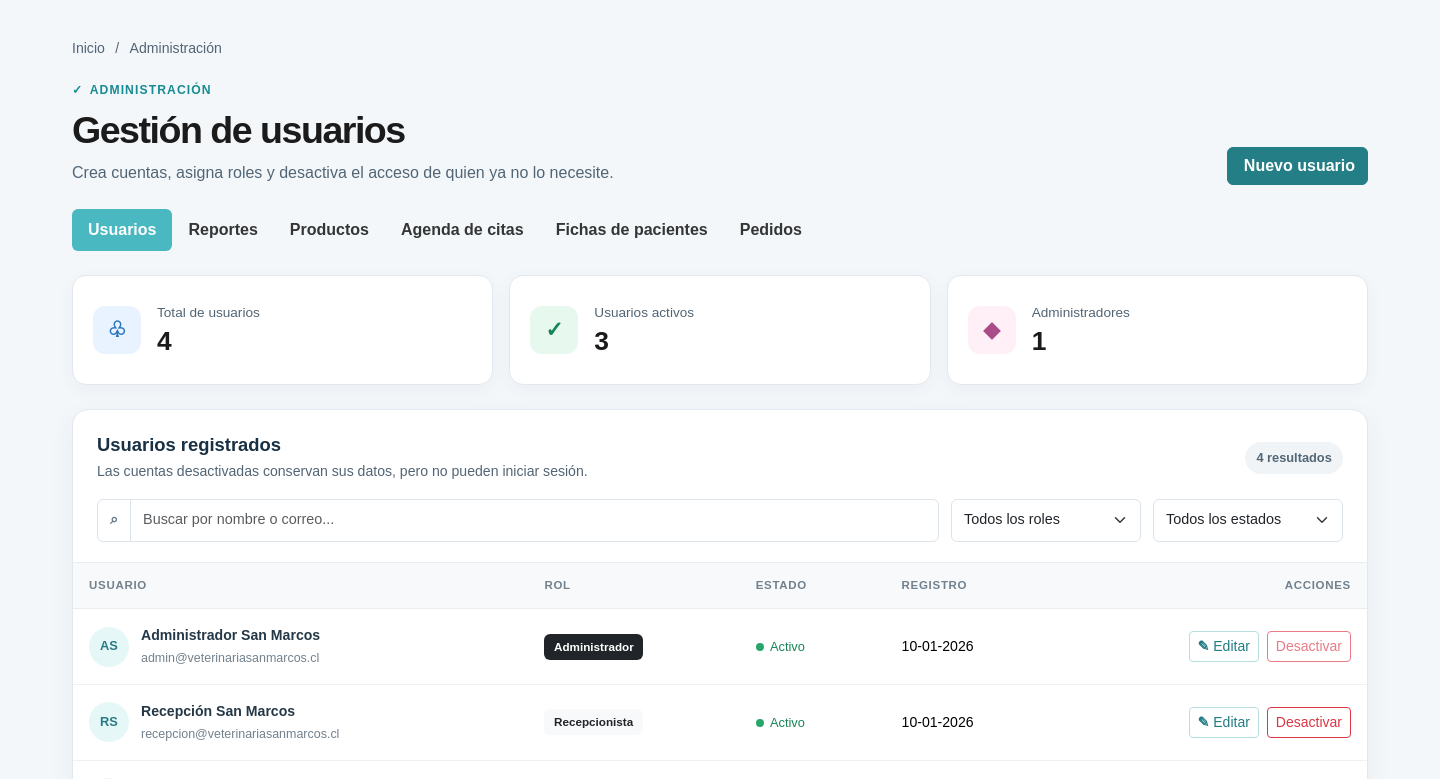
Scenario: Usuarios (administración) › crea una cuenta nueva con el rol elegido
Click the button "Nuevo usuario" at {"x": 1297, "y": 166}, box [1227,147,1368,185]
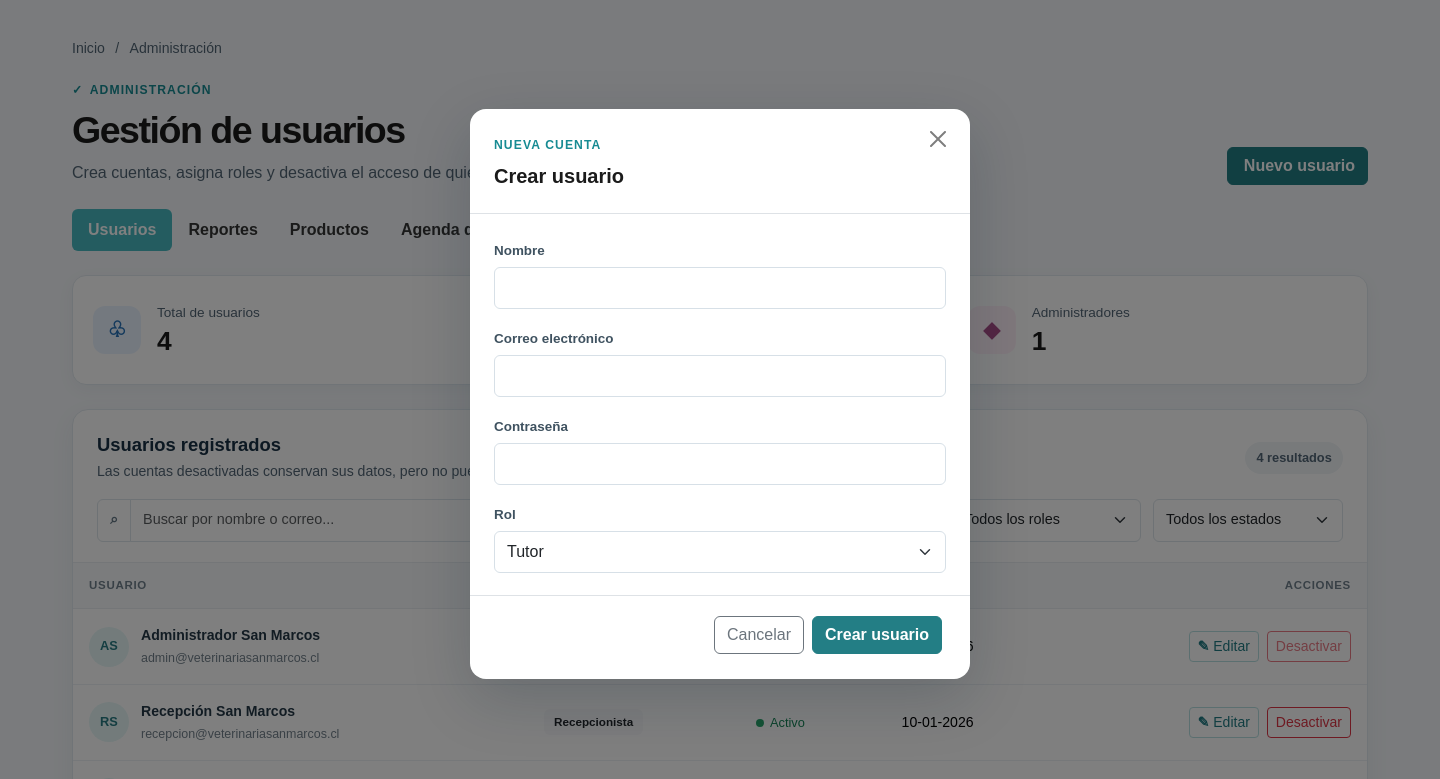
Type "Pedro Vet" into the field labelled "Nombre" at {"x": 720, "y": 288}, box [494,267,946,309]
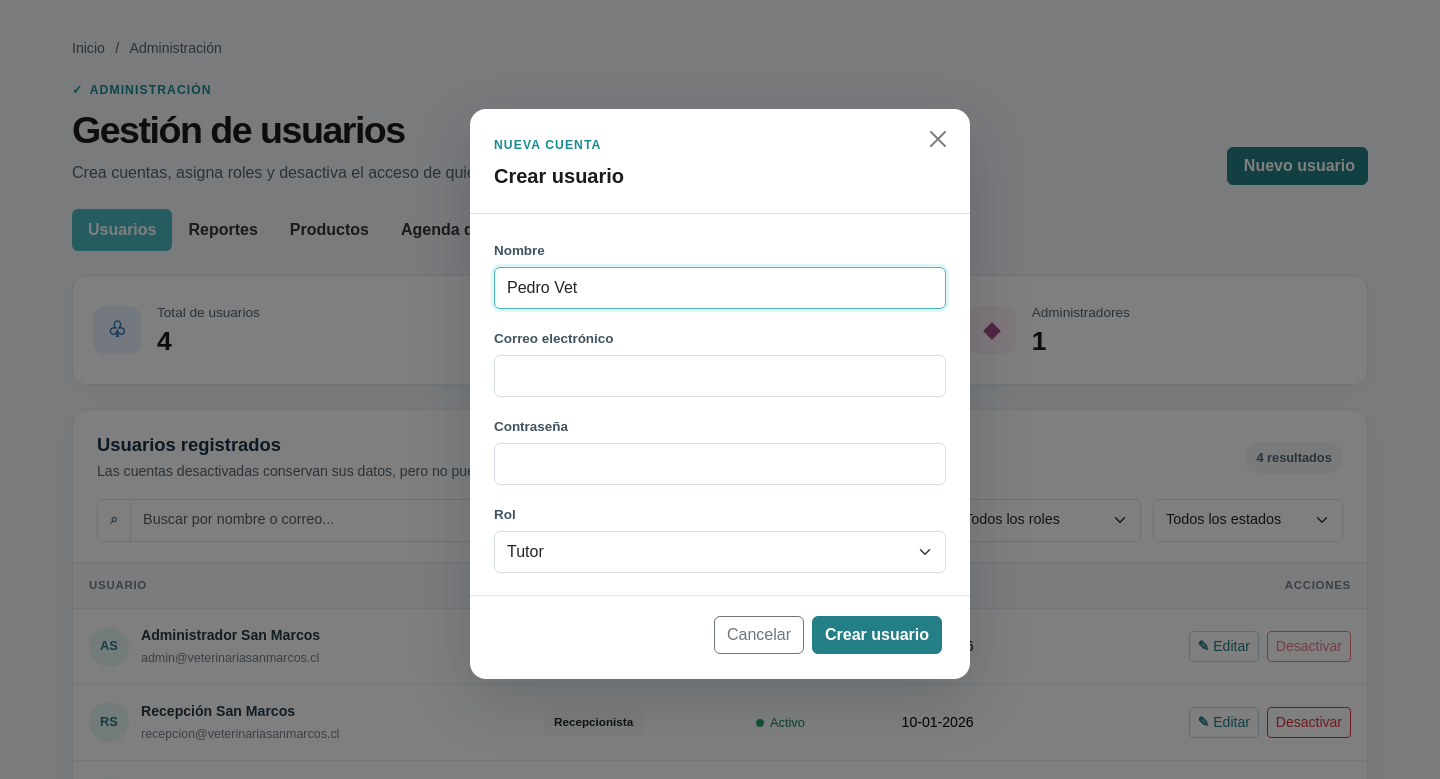
Type "pedro@veterinariasanmarcos.cl" into the field labelled "Correo electrónico" at {"x": 720, "y": 376}, box [494,355,946,397]
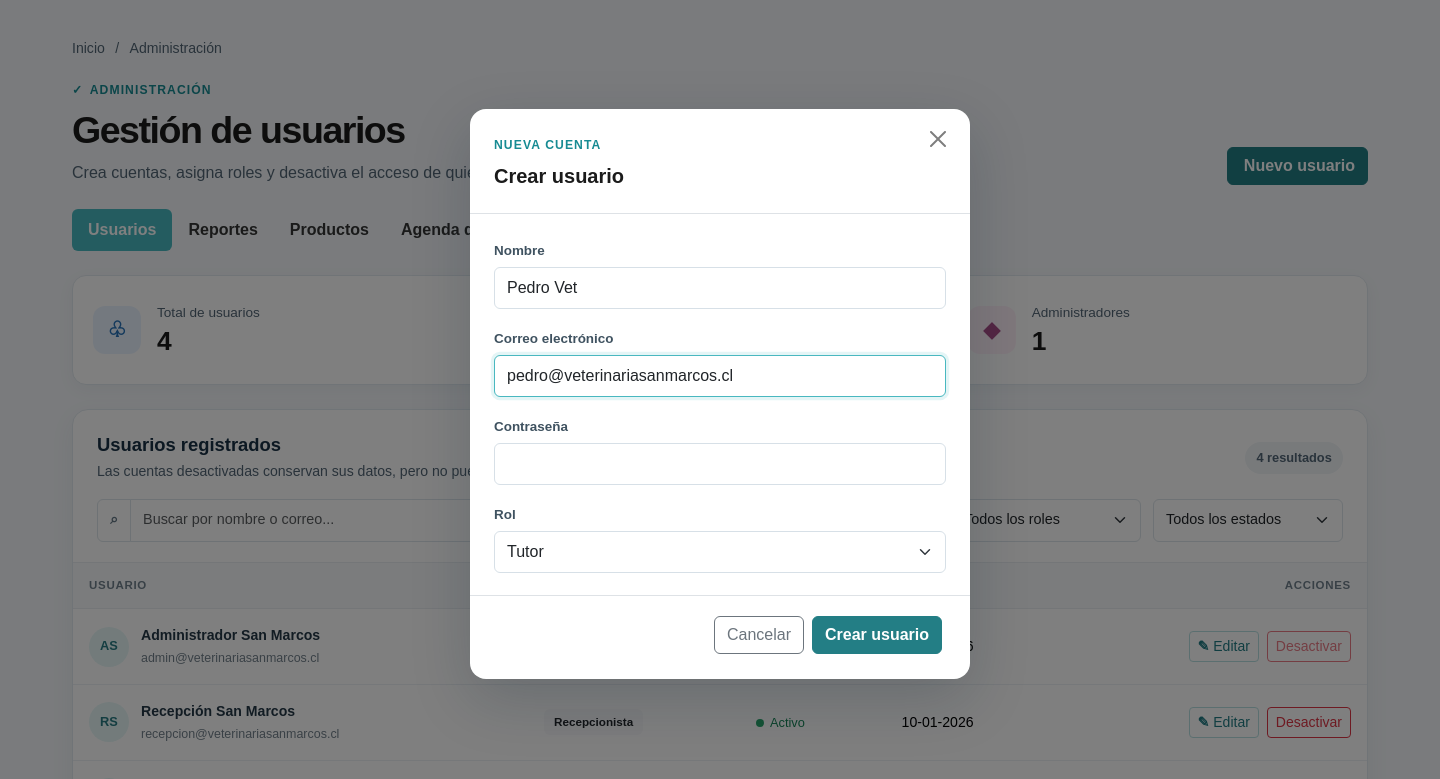
Type "secreta1" into the password field labelled "Contraseña" at {"x": 720, "y": 464}, box [494,443,946,485]
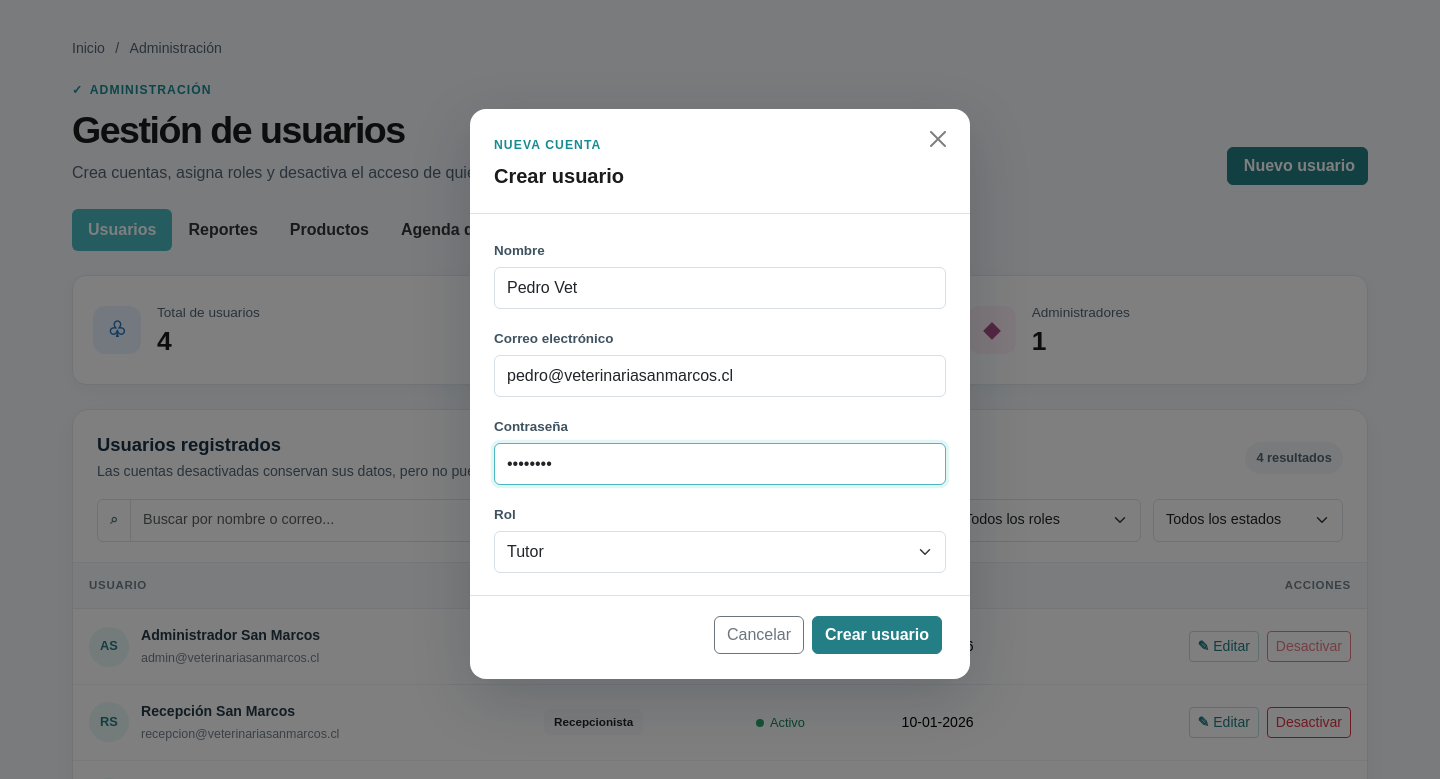
Select "Recepcionista" in the dropdown labelled "Rol" at {"x": 720, "y": 552}, box [494,531,946,573]
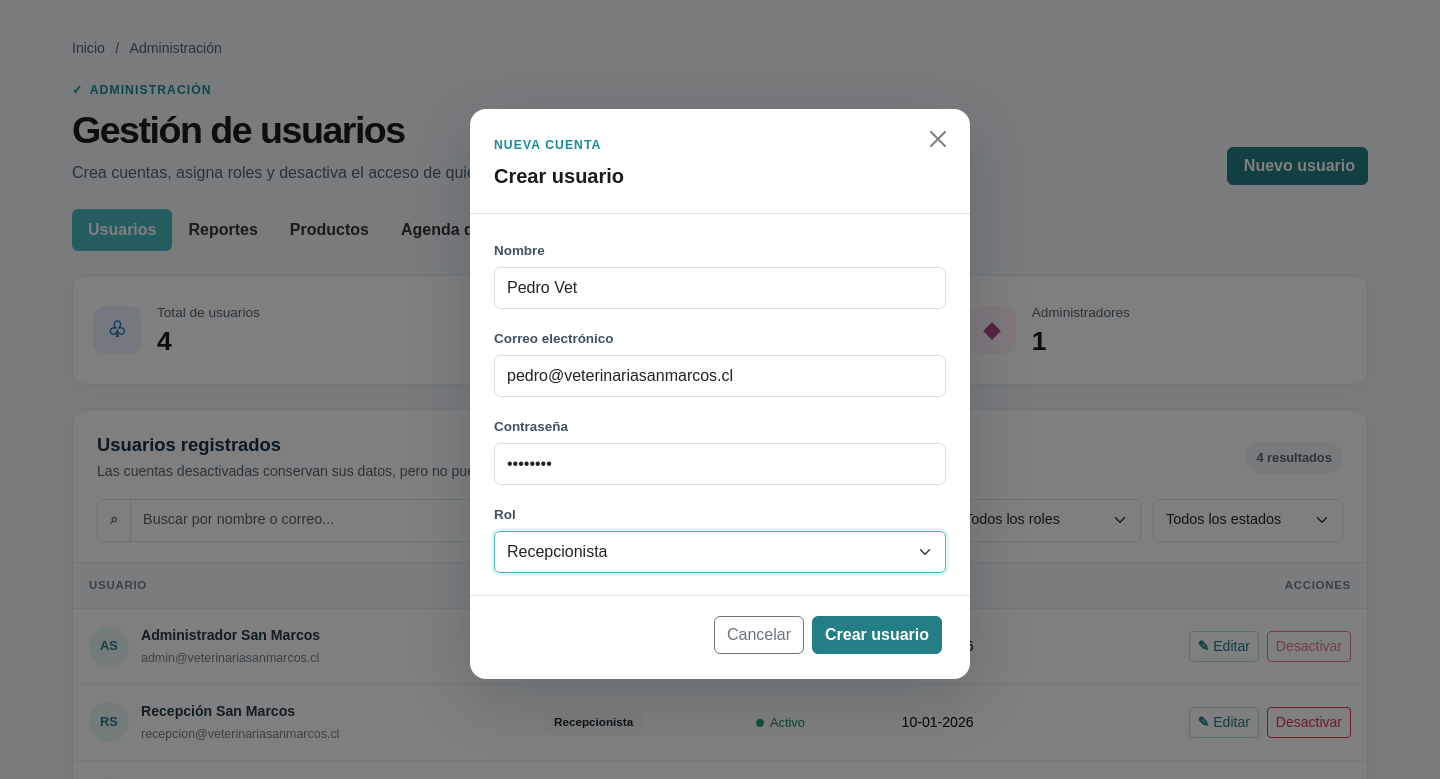
Click the button "Crear usuario" at {"x": 877, "y": 635}, box [812,616,942,654]
(page scrolled)
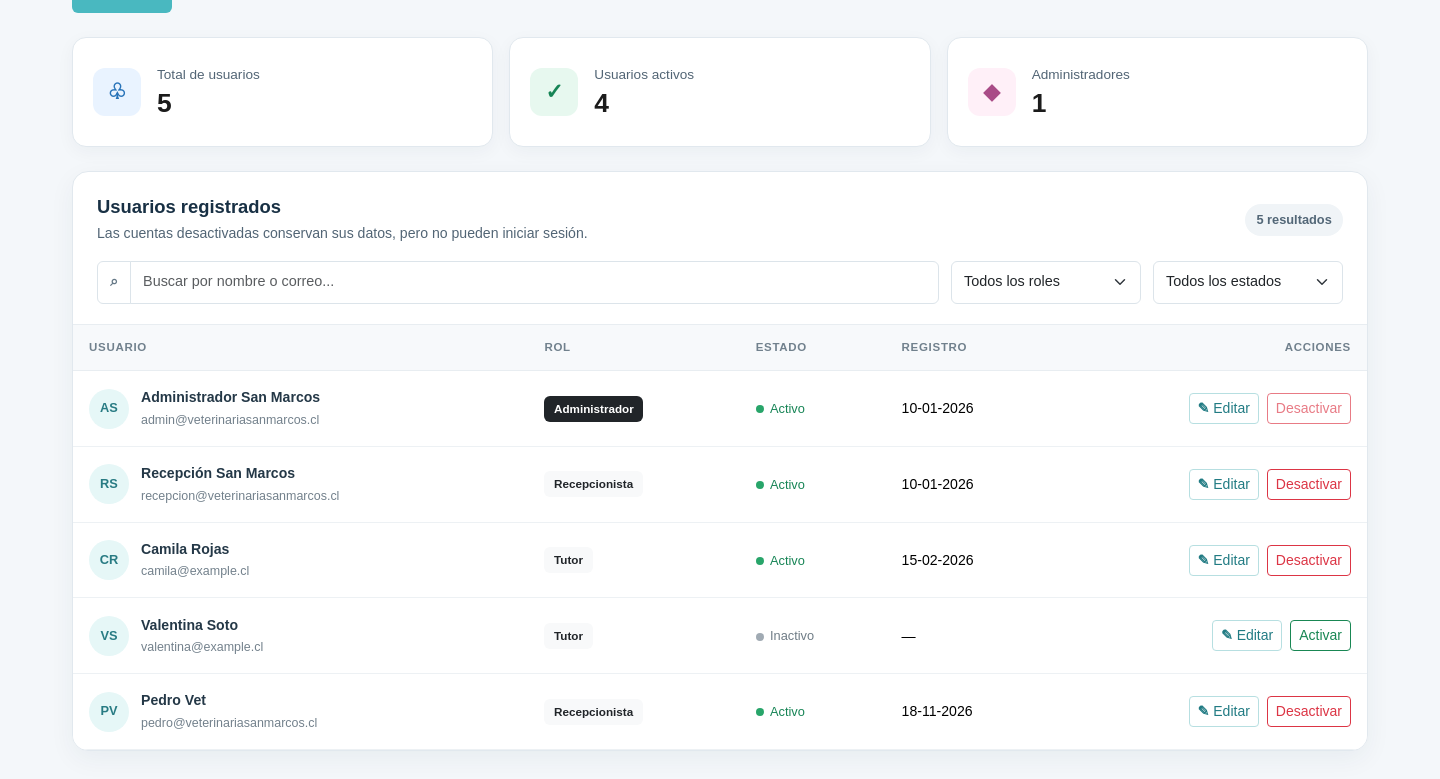
expect the text "pedro@veterinariasanmarcos.cl" is shown: met, box [141,714,317,734]
expect the heading "Crear usuario" is gone: met
